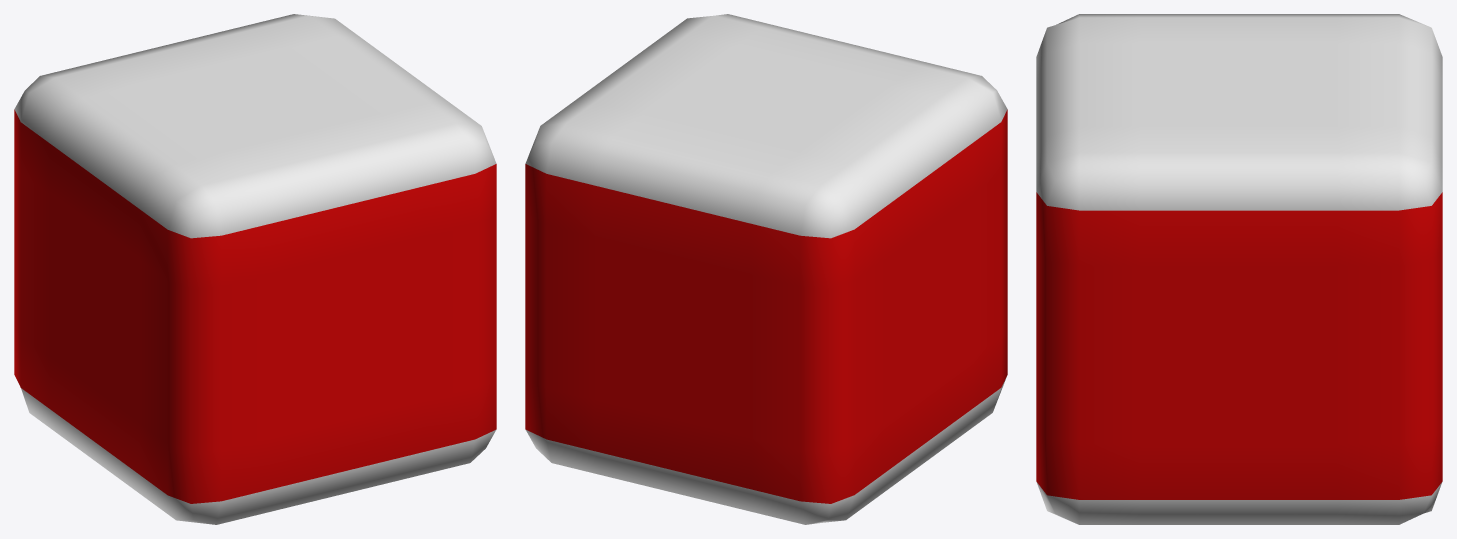
File: BrickGrid_low.fbx
3 renders of one model, left to right at view 1: azimuth 30°, elevation 25°; view 2: azimuth 150°, elevation 25°; view 3: azimuth 270°, elevation 25°, orthographic. The views are drawn at different scales.
Parts seen in each view (by area): view 1: landGrid_low; view 2: landGrid_low; view 3: landGrid_low.
Part boxes in pixels (bbox=[...]): landGrid_low: bbox=[14, 14, 496, 524]; landGrid_low: bbox=[525, 14, 1007, 524]; landGrid_low: bbox=[1036, 14, 1442, 524].
Bounding box in the file's own units: 1.11 × 1.11 × 1.11.
